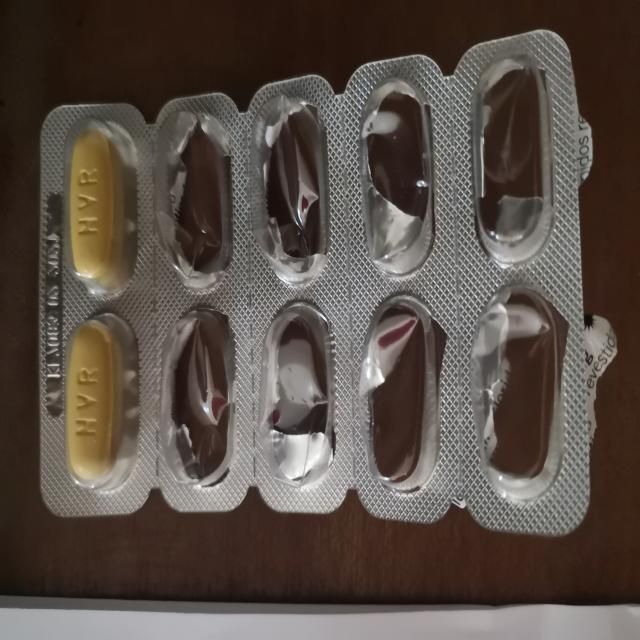Empty: (464, 284, 572, 506), (356, 296, 454, 498), (348, 80, 444, 282), (466, 53, 554, 271), (255, 301, 345, 494), (250, 96, 332, 289), (159, 296, 237, 494), (160, 108, 234, 294)
Pill: (56, 310, 140, 491), (58, 115, 140, 299)
